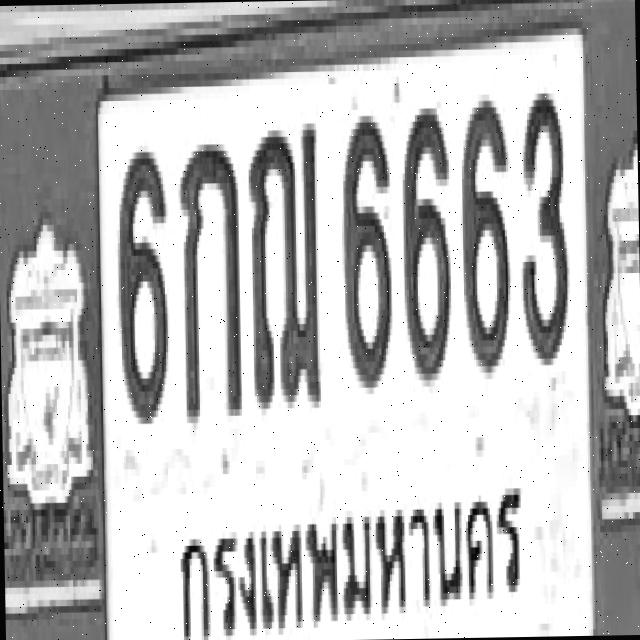10GorGai: (178, 138, 242, 422)
21ChorChoe: (246, 116, 322, 408)
3: (518, 86, 570, 365)
6: (340, 109, 393, 388), (116, 144, 169, 423), (459, 94, 510, 372), (400, 101, 450, 380)
Bangkok: (168, 484, 530, 632)
